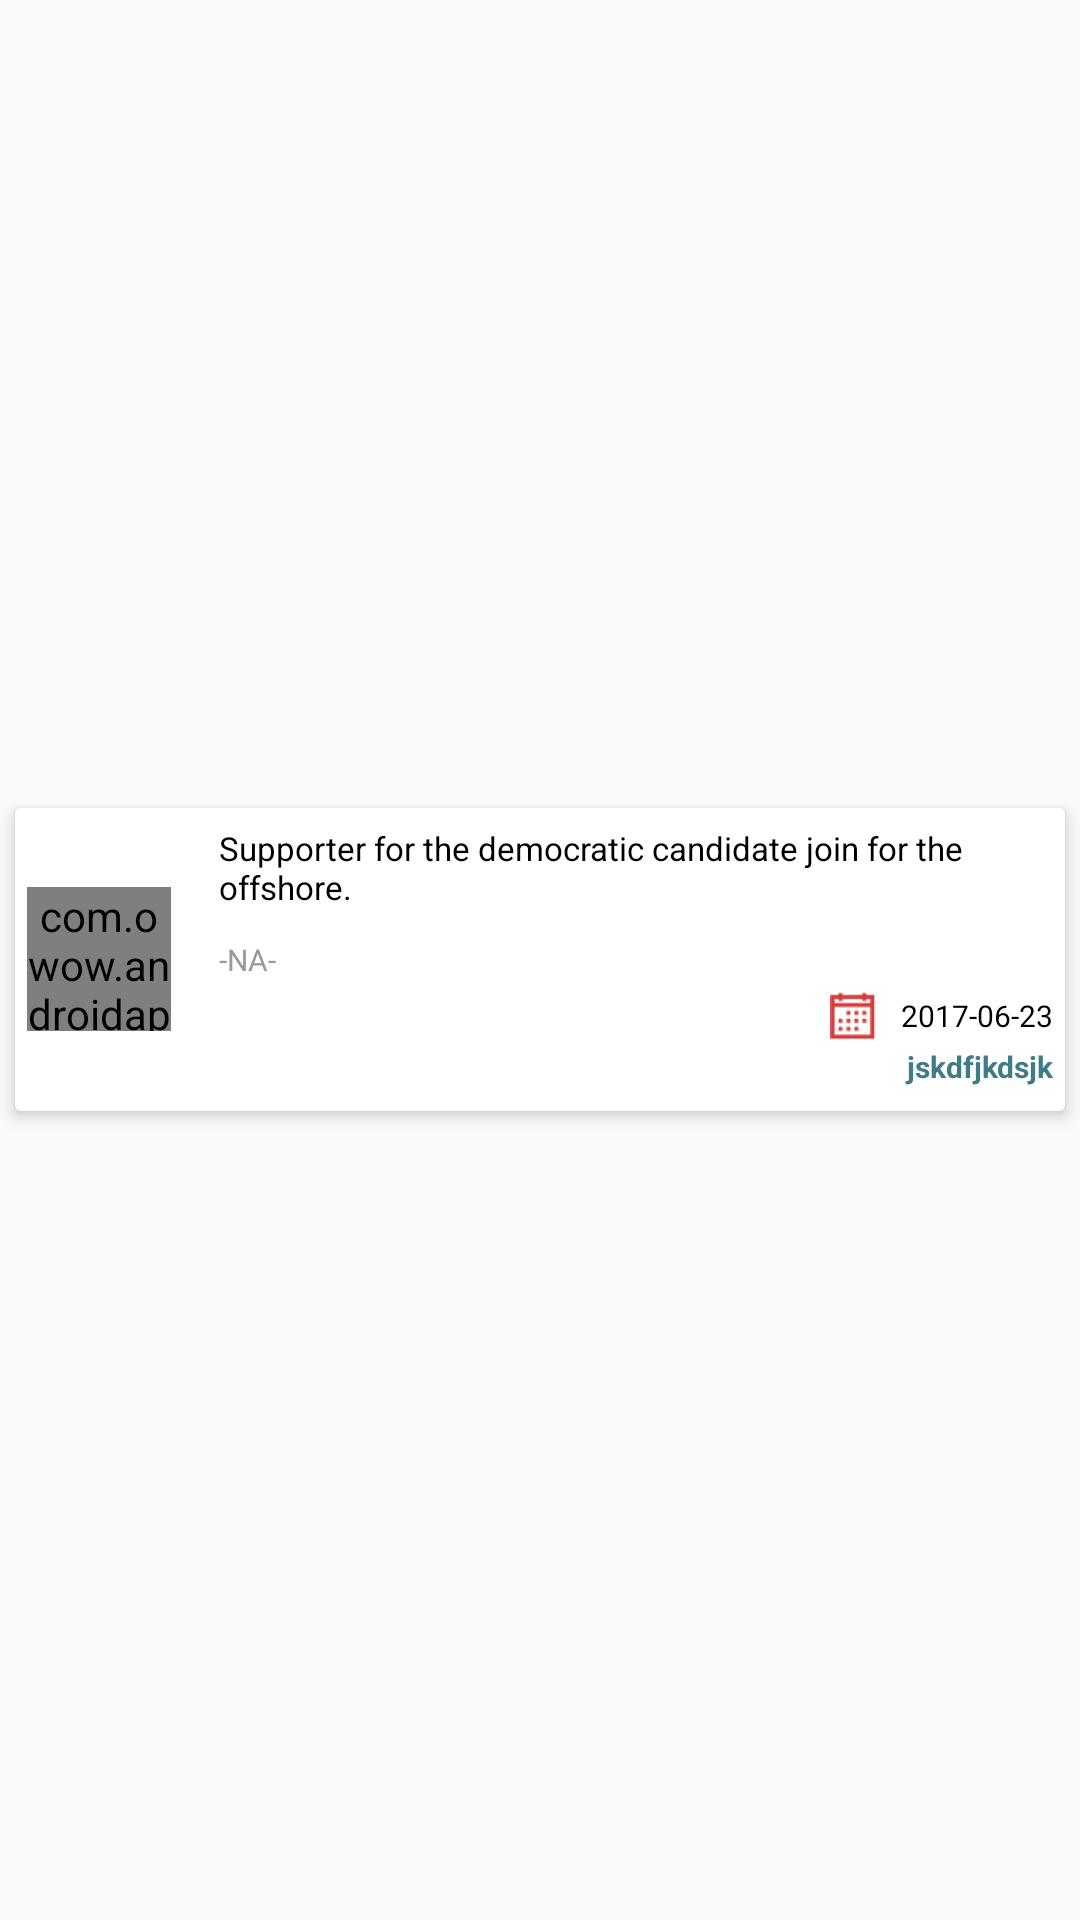

Where icons sit on this 1080 × 1920 app screen, as (x1, y1, x2, y2):
calendar: (830, 992, 875, 1039)
